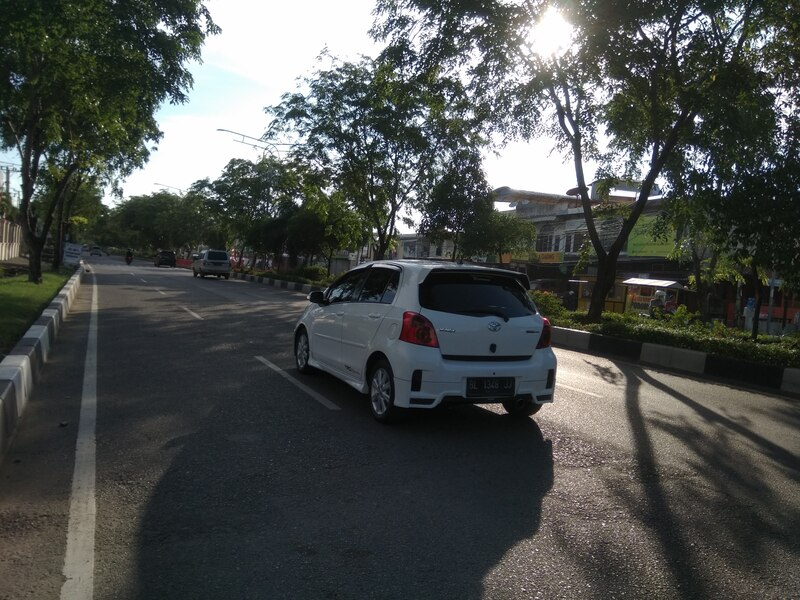car: (291, 253, 559, 434), (190, 247, 232, 277)
